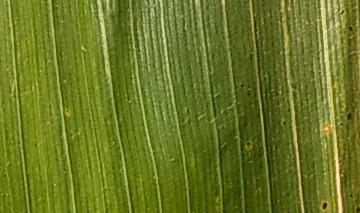tarspot: (318, 199, 331, 213), (345, 22, 356, 35), (243, 138, 253, 150), (344, 110, 355, 120), (347, 190, 356, 201), (353, 204, 360, 213)
